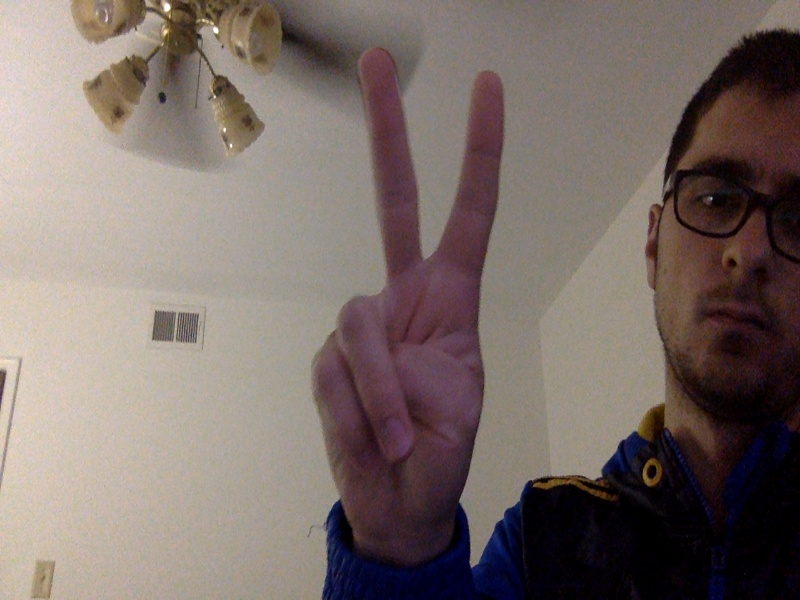2-hand: (309, 46, 504, 547)
